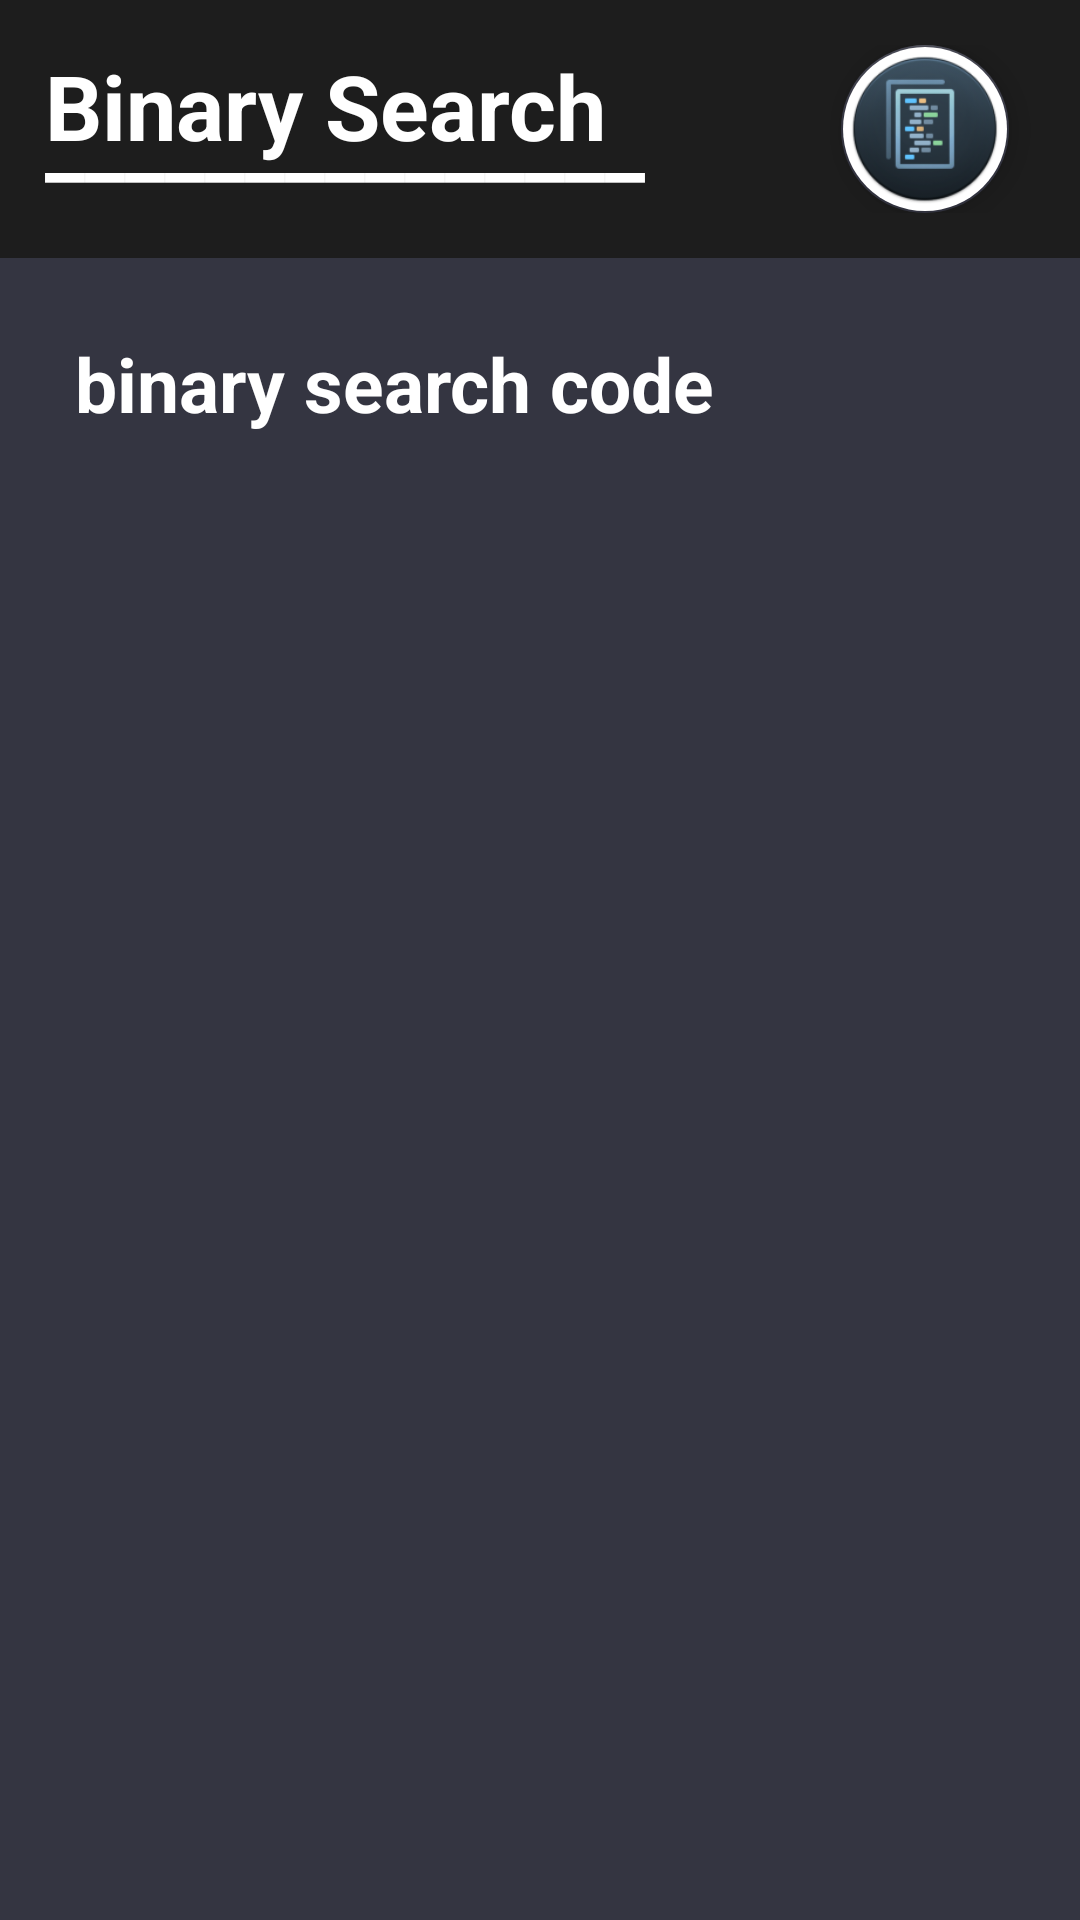

Icons on this 1080w x 1920h Android screen, each with the point to tap as (x=x, y=y):
content: (x=925, y=129)
